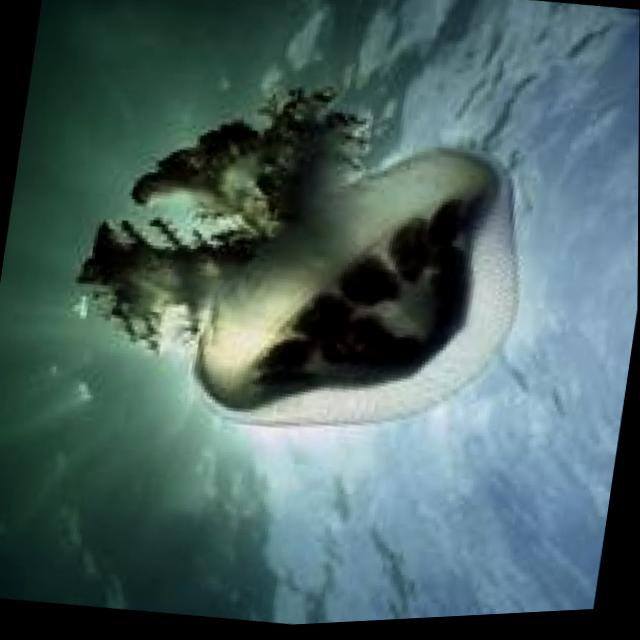Jellyfish: (51, 24, 586, 513)
